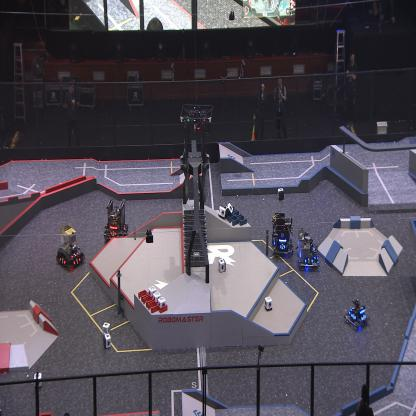car: (54, 222, 84, 268), (270, 210, 294, 256), (103, 199, 128, 243), (296, 228, 320, 270), (344, 298, 368, 330)
